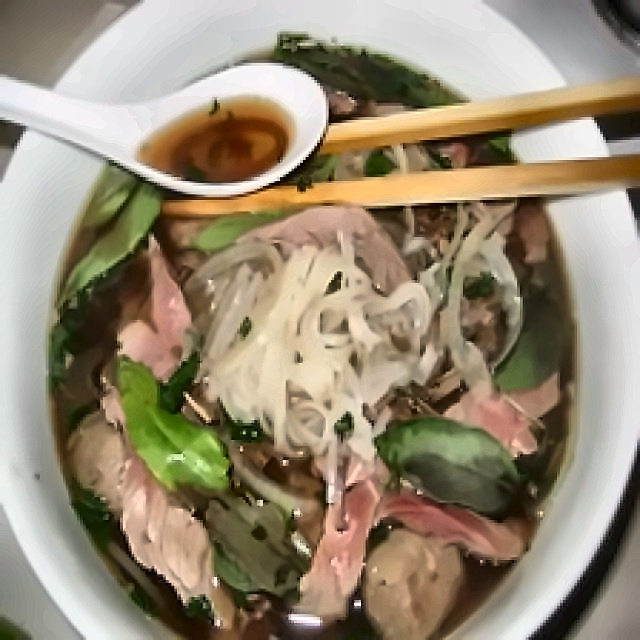noodle: (205, 252, 439, 473)
